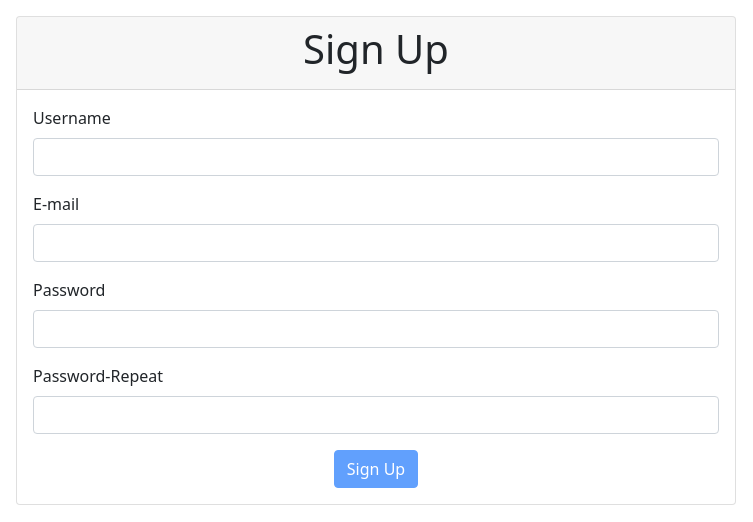
Test: Sign Up Page › Interactions › enable the button, then password and password repeat has same value
Type "user1" into the field labelled "Username" at (376, 157), box [33,138,719,176]
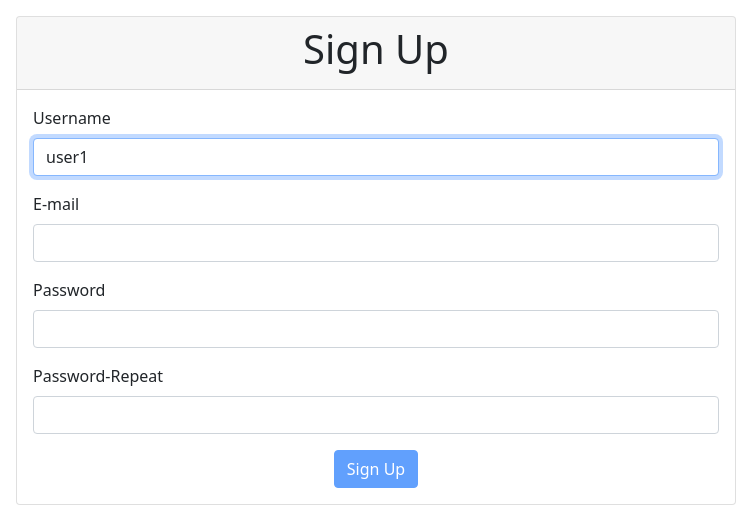
Type "user1@mail.com" into the field labelled "E-mail" at (376, 243), box [33,224,719,262]
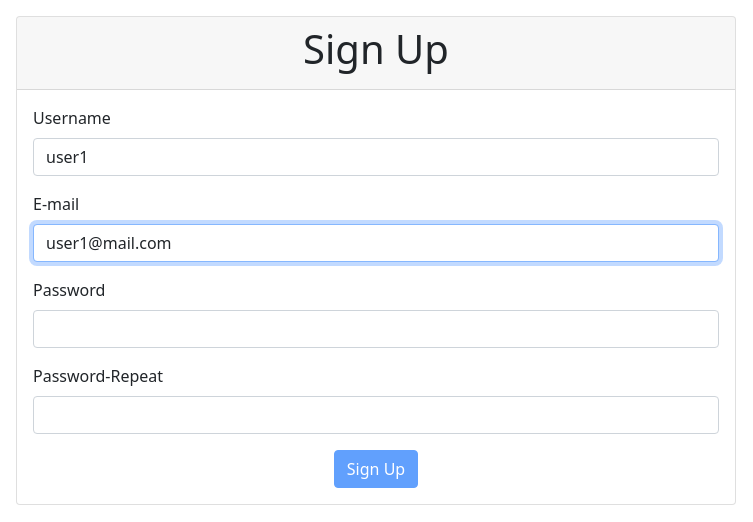
Type "P4ssword" into the password field labelled "Password" at (376, 329), box [33,310,719,348]
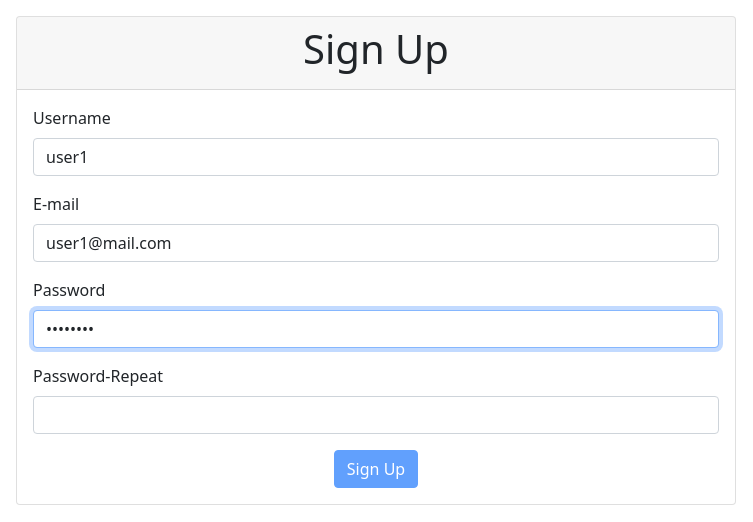
Type "P4ssword" into the password field labelled "Password-Repeat" at (376, 415), box [33,396,719,434]
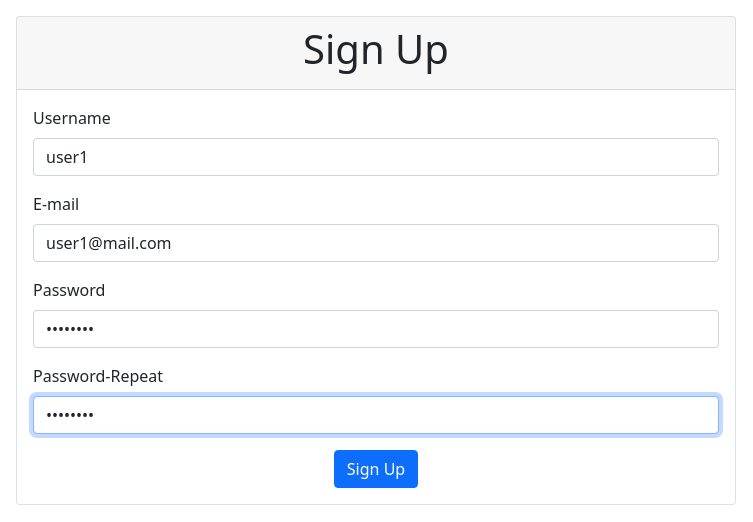
Now the button "Sign Up" is enabled, box [334,450,418,488]
